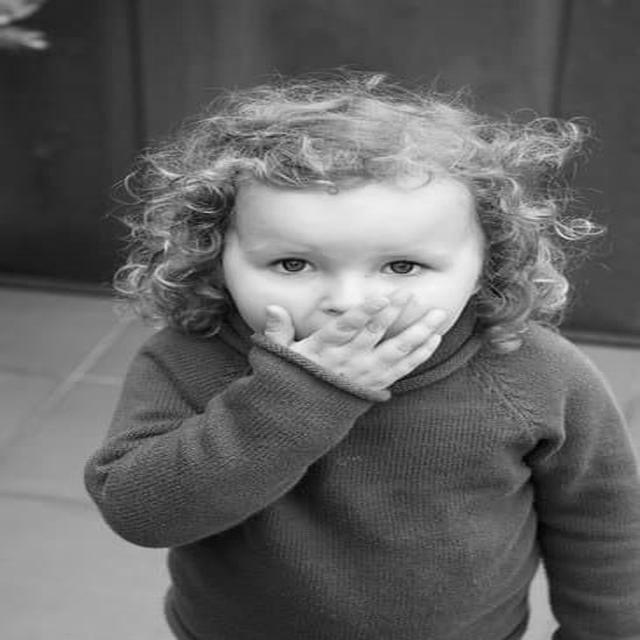Fear: (235, 172, 463, 364)
